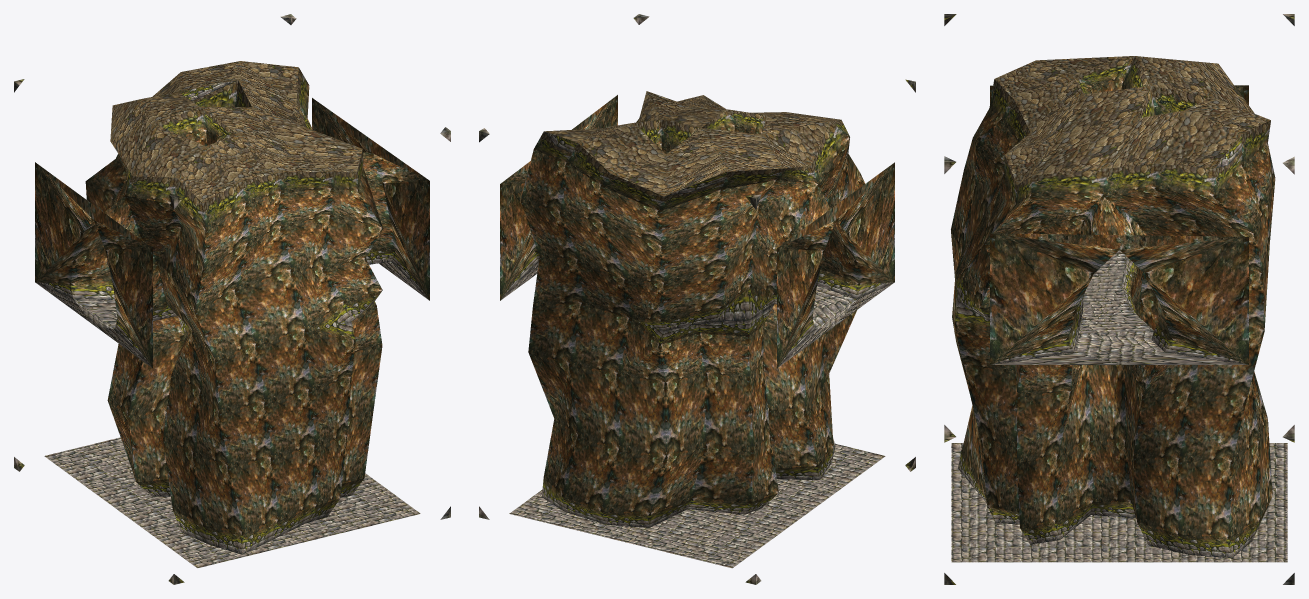
File: lbc_2a.glb
The picture shows the model from 3 angles, left to right: view 1: azimuth 30°, elevation 25°; view 2: azimuth 150°, elevation 25°; view 3: azimuth 270°, elevation 25°; orthographic projection. The views are drawn at different scales.
Parts seen in each view (by area): view 1: lbc_2a-col; view 2: lbc_2a-col; view 3: lbc_2a-col.
Boxes of the visible parts, box(x1,y1,x2,y2) form: lbc_2a-col: box(14, 14, 450, 584); lbc_2a-col: box(479, 14, 915, 584); lbc_2a-col: box(944, 14, 1294, 584).
Bounding box in the file's own units: 15 × 20 × 15.
Materials: 4 (4 with a texture image).
